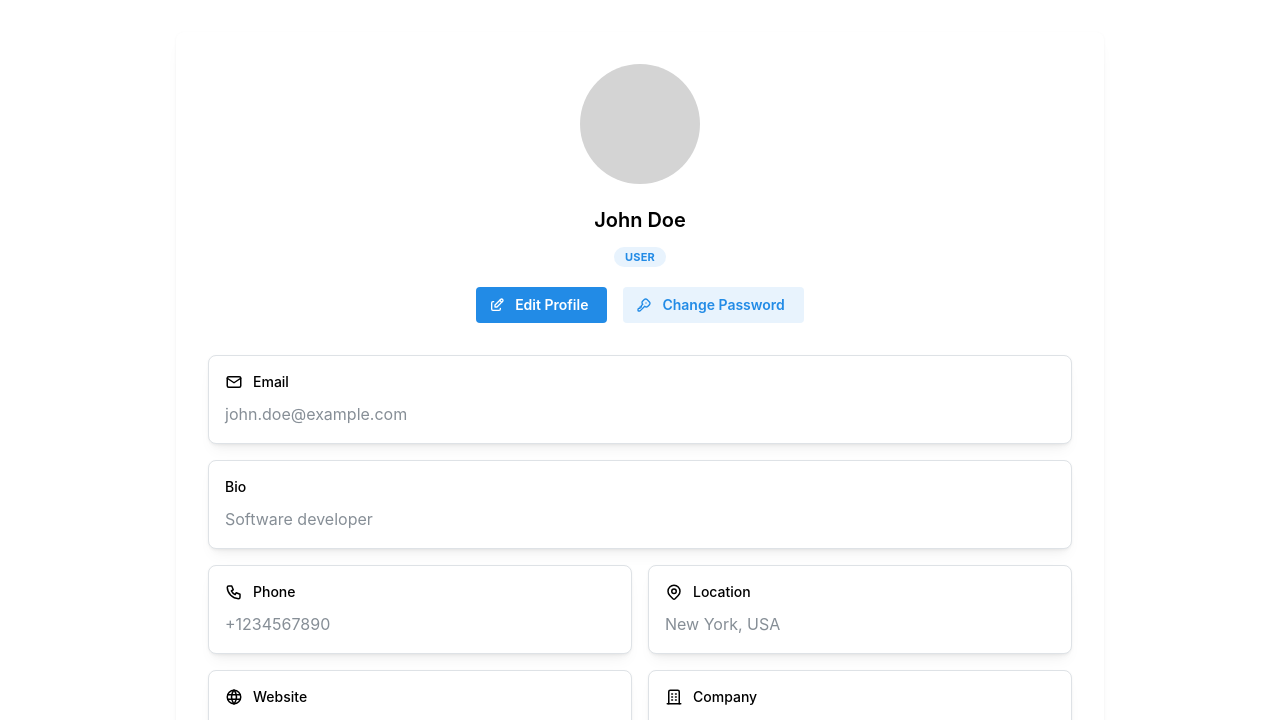
Test case: ProfilePage › should open change password modal when clicking Change Password button
Expected: the button "Change Password" is shown, [662,296,785,313]
Click the button "Change Password". click: (714, 305)
box: [623,287,804,323]
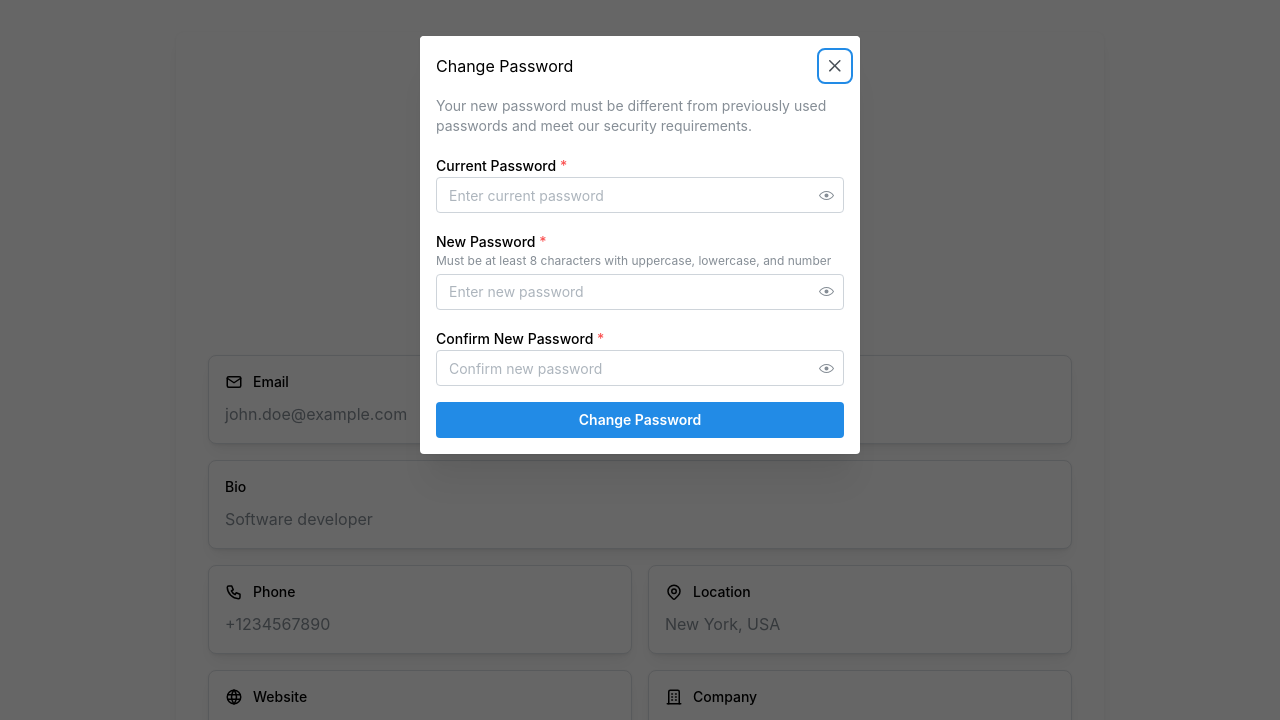
Result: the password field labelled "Current Password *" is shown at [437,178,843,212]
